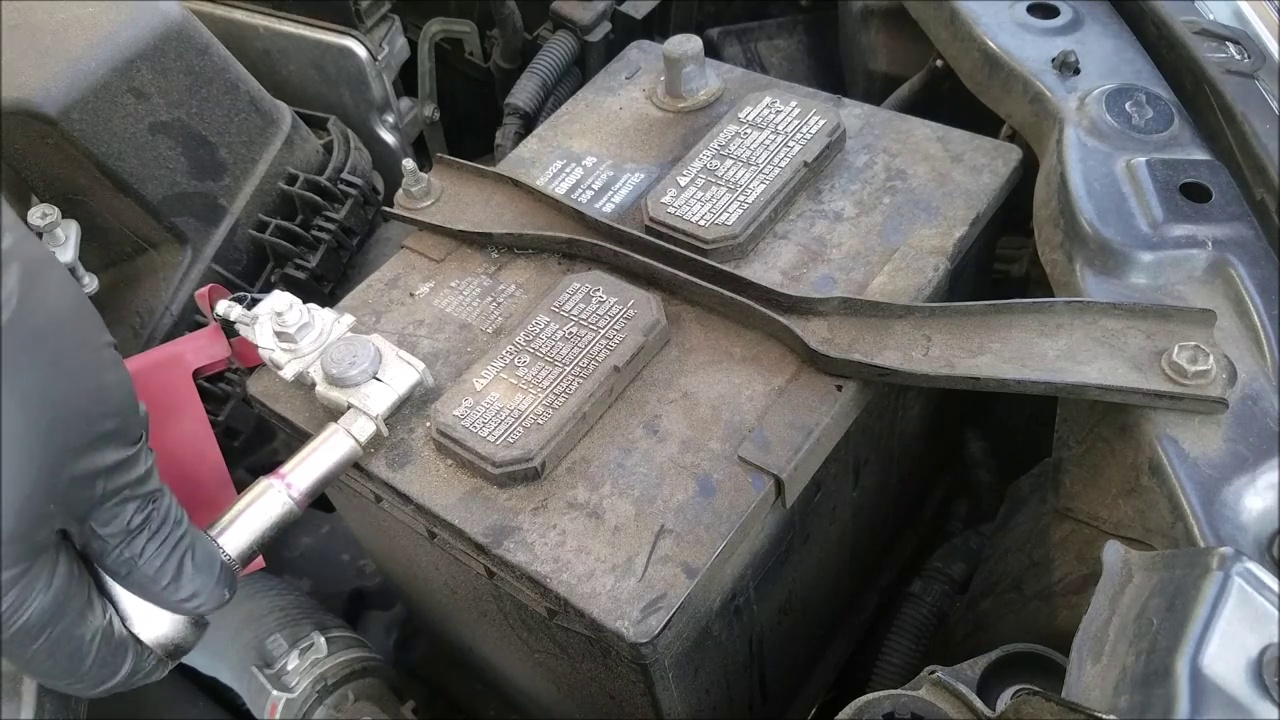battery: (243, 20, 1031, 639)
neg_disconnected: (618, 3, 757, 133)
pos_connected: (102, 268, 449, 488)
pos_touched: (65, 256, 432, 661)
